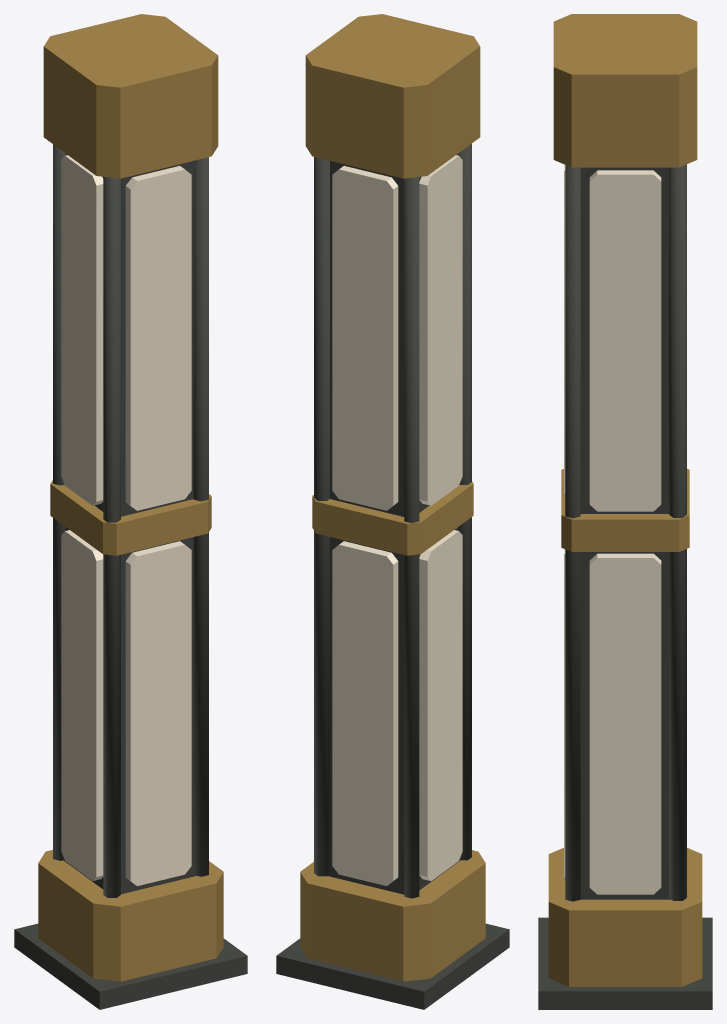
Rendered from b1_pillar.glb.
3 views of the same model, side by side, from view 1: azimuth 30°, elevation 25°; view 2: azimuth 150°, elevation 25°; view 3: azimuth 270°, elevation 25° (orthographic). The views are drawn at different scales.
Parts seen in each view (by area): view 1: b1_pillar; view 2: b1_pillar; view 3: b1_pillar.
Boxes of the visible parts, x1,y1,x2,y2 form: b1_pillar: [14, 14, 247, 1009]; b1_pillar: [276, 14, 509, 1009]; b1_pillar: [538, 14, 712, 1009].
Size of the model in its own units: 0.68 by 4 by 0.68.
